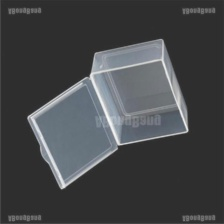plastic_box: (19, 31, 194, 195)
